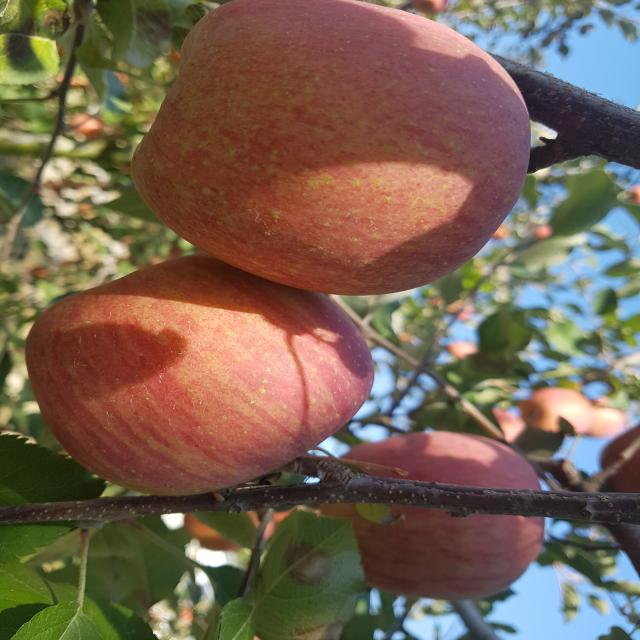fresh: (115, 1, 541, 309), (18, 249, 385, 493)
